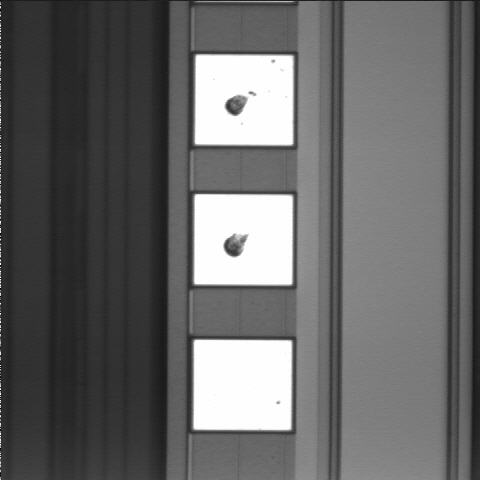pad: (194, 194, 293, 285), (195, 55, 293, 145), (194, 340, 292, 430)
